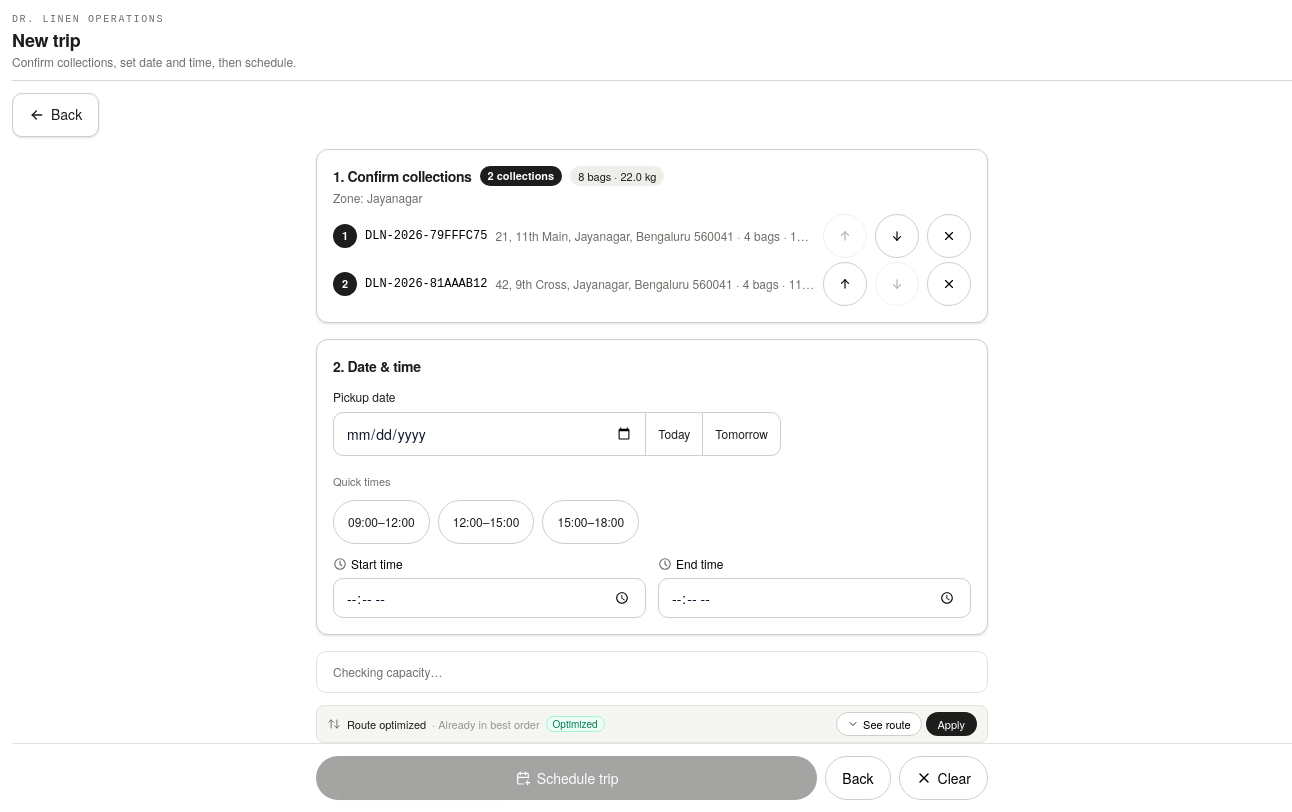
TextileTripNewPage › confirms the collections carried over from Trips and allows removal
The image size is (1292, 812).
expect the text "DLN-2026-79FFFC75" is shown: met, box [365, 228, 487, 244]
expect the text "DLN-2026-81AAAB12" is shown: met, box [365, 276, 487, 292]
Click the button named "Remove DLN-2026-81AAAB12". click: (949, 284)
box: [927, 262, 971, 306]
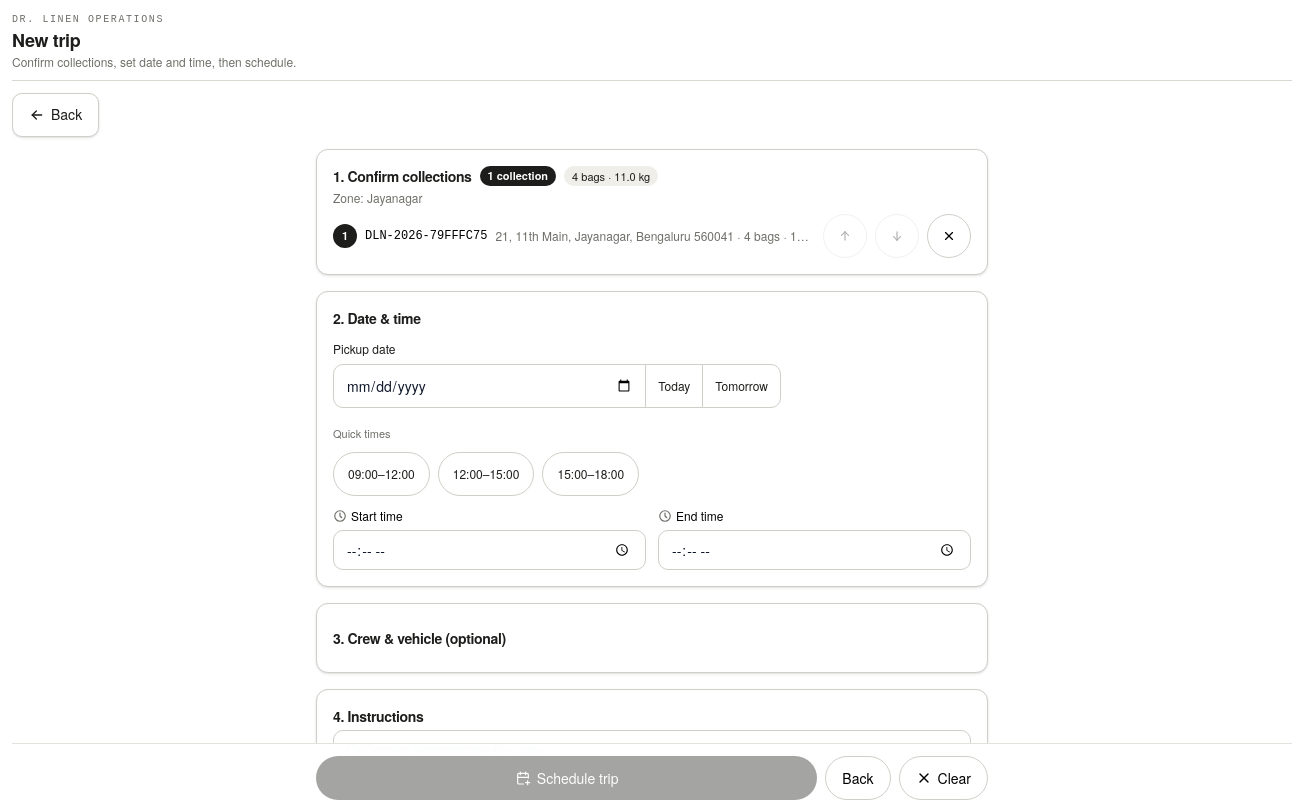
expect the text "DLN-2026-79FFFC75" is shown: met, box [365, 228, 487, 244]
expect the text "DLN-2026-81AAAB12" is gone: met
